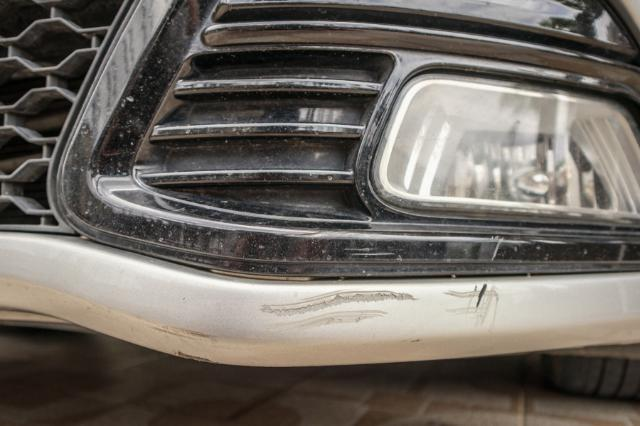Bumper: (129, 242, 545, 371)
